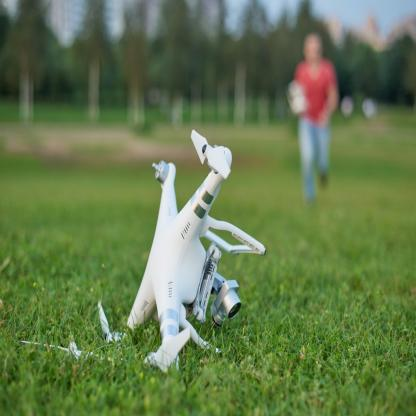drone: (89, 128, 279, 367)
